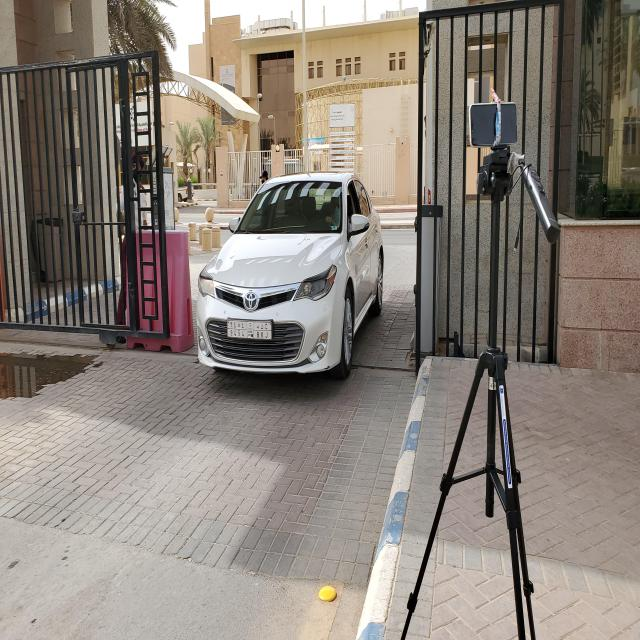license_plate: (227, 319, 272, 340)
